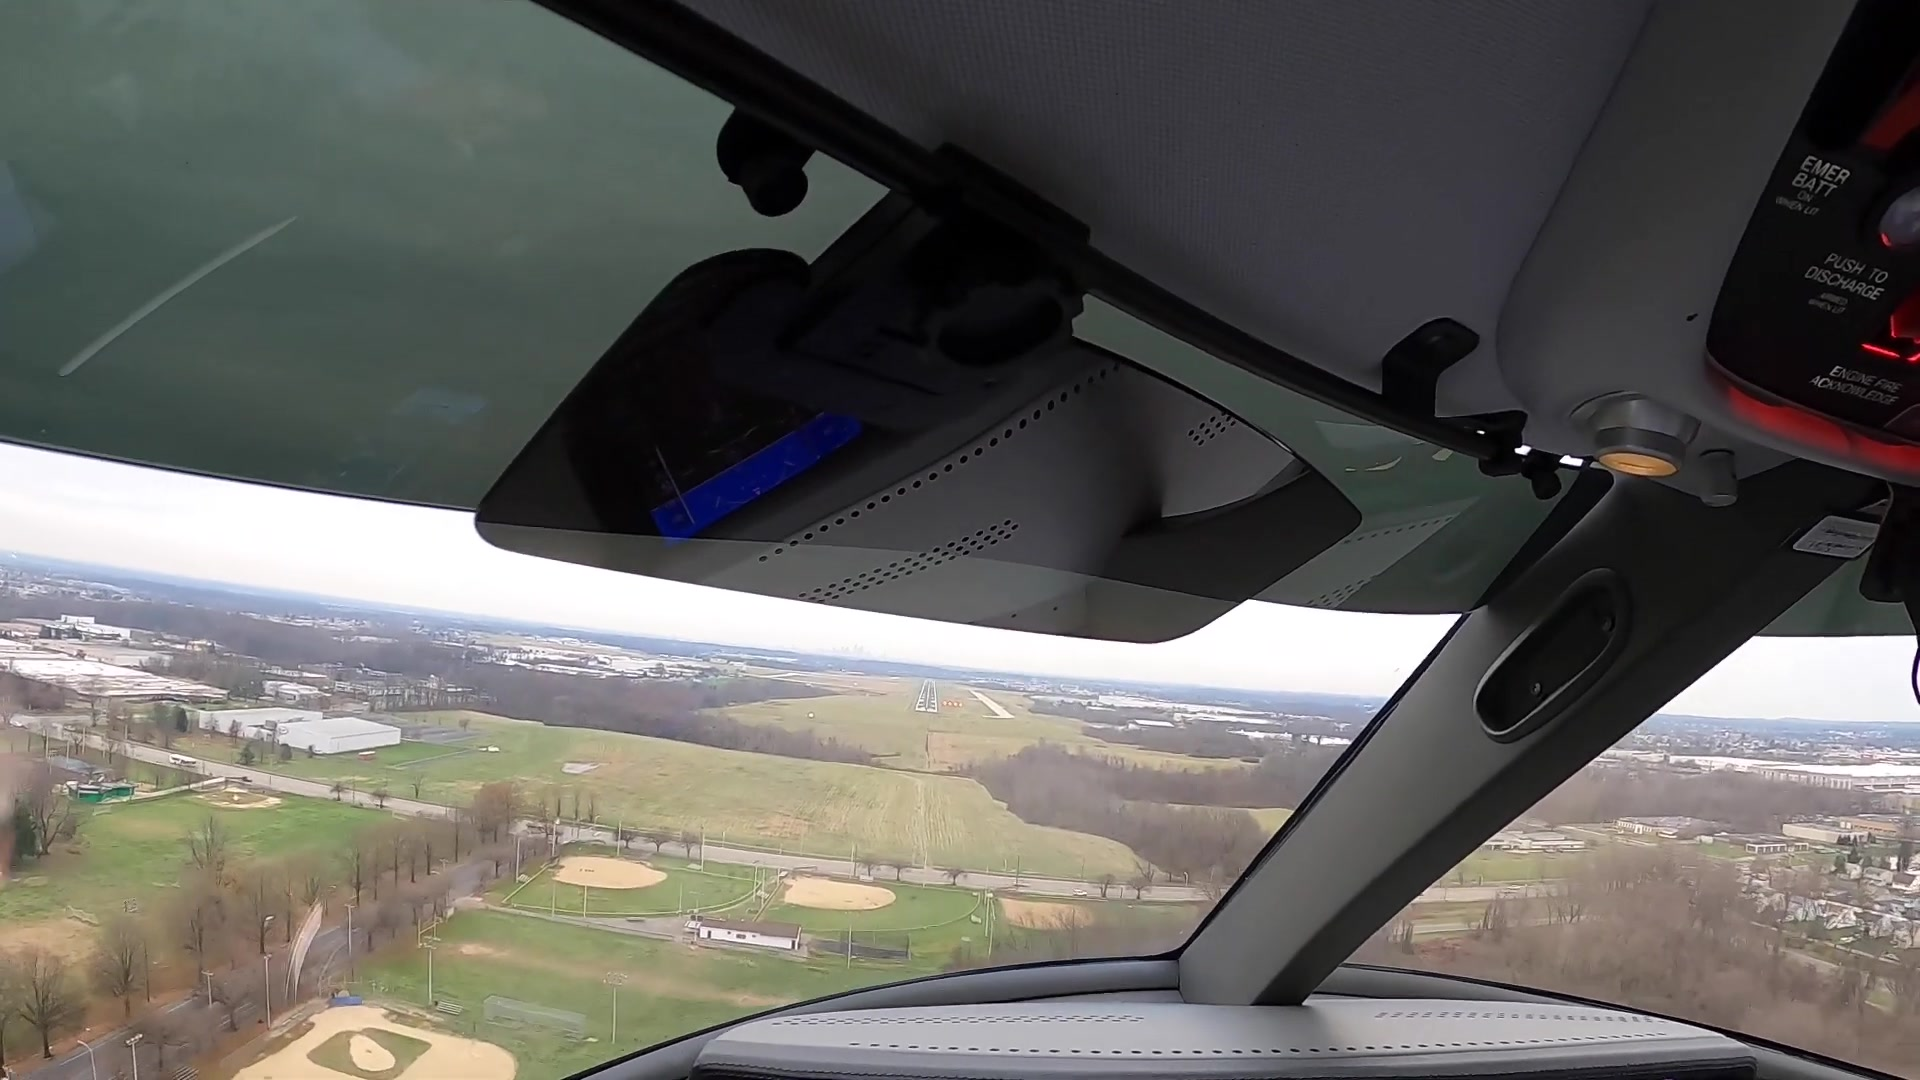runway: (913, 678, 942, 713)
